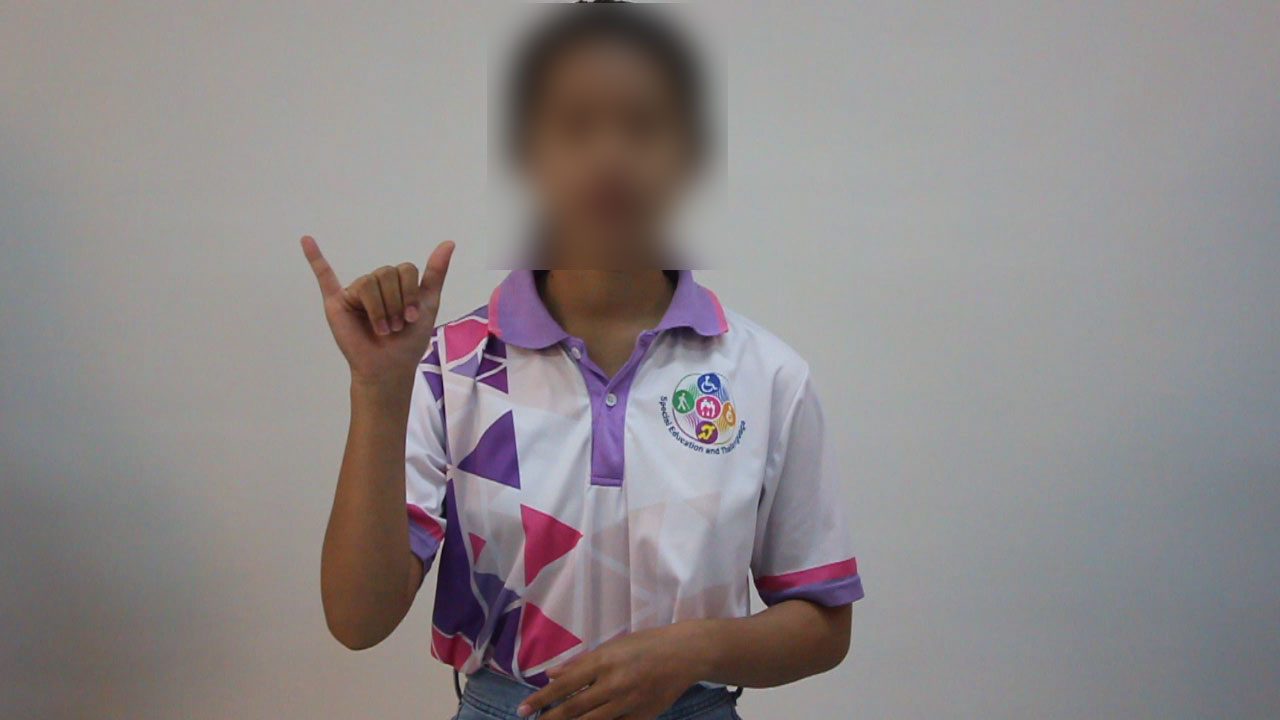yor: (284, 223, 481, 386)
